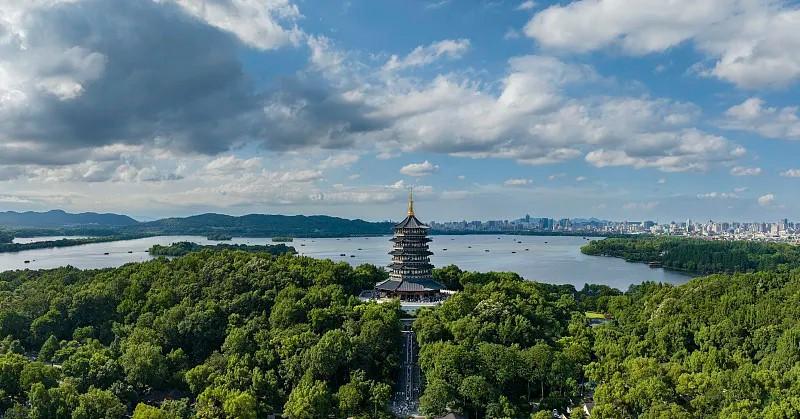Leifeng: (373, 187, 445, 304)
